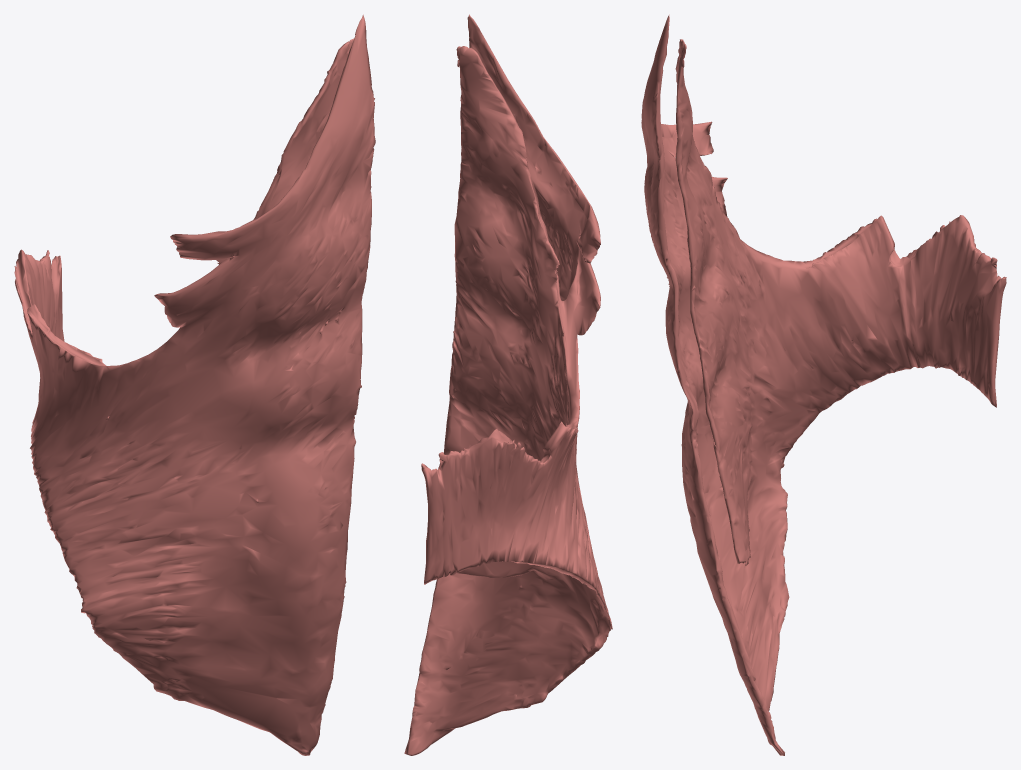
The picture shows the model from 3 angles, left to right: view 1: azimuth 30°, elevation 25°; view 2: azimuth 150°, elevation 25°; view 3: azimuth 270°, elevation 25°; orthographic projection. The views are drawn at different scales.
Parts seen in each view (by area): view 1: ZA_11e8ab43abc3b11f; view 2: ZA_11e8ab43abc3b11f; view 3: ZA_11e8ab43abc3b11f.
Boxes of the visible parts, <box> form: ZA_11e8ab43abc3b11f: <box>14,14,375,755</box>; ZA_11e8ab43abc3b11f: <box>404,14,612,755</box>; ZA_11e8ab43abc3b11f: <box>641,14,1006,755</box>.
Bounding box in the file's own units: 0.1245 × 0.3917 × 0.1754.
